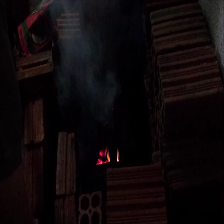fire_l: (96, 147, 111, 166), (116, 150, 120, 161)
